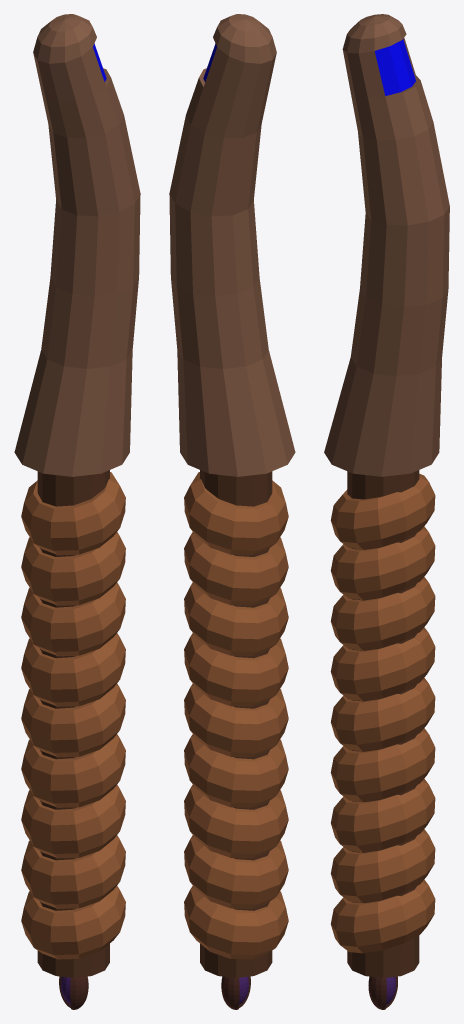
Rendered from Wand 447.glb.
3 views of the same model, side by side, from view 1: azimuth 30°, elevation 25°; view 2: azimuth 150°, elevation 25°; view 3: azimuth 330°, elevation 25° (orthographic).
Visible parts, largest first — view 1: GeneratedWand; view 2: GeneratedWand; view 3: GeneratedWand.
Boxes of the visible parts, x1=… form: GeneratedWand: x1=14, y1=14, x2=140, y2=1009; GeneratedWand: x1=169, y1=14, x2=295, y2=1009; GeneratedWand: x1=324, y1=14, x2=449, y2=1009.
Bounding box in the file's own units: 0.0644 × 0.5416 × 0.0581.
